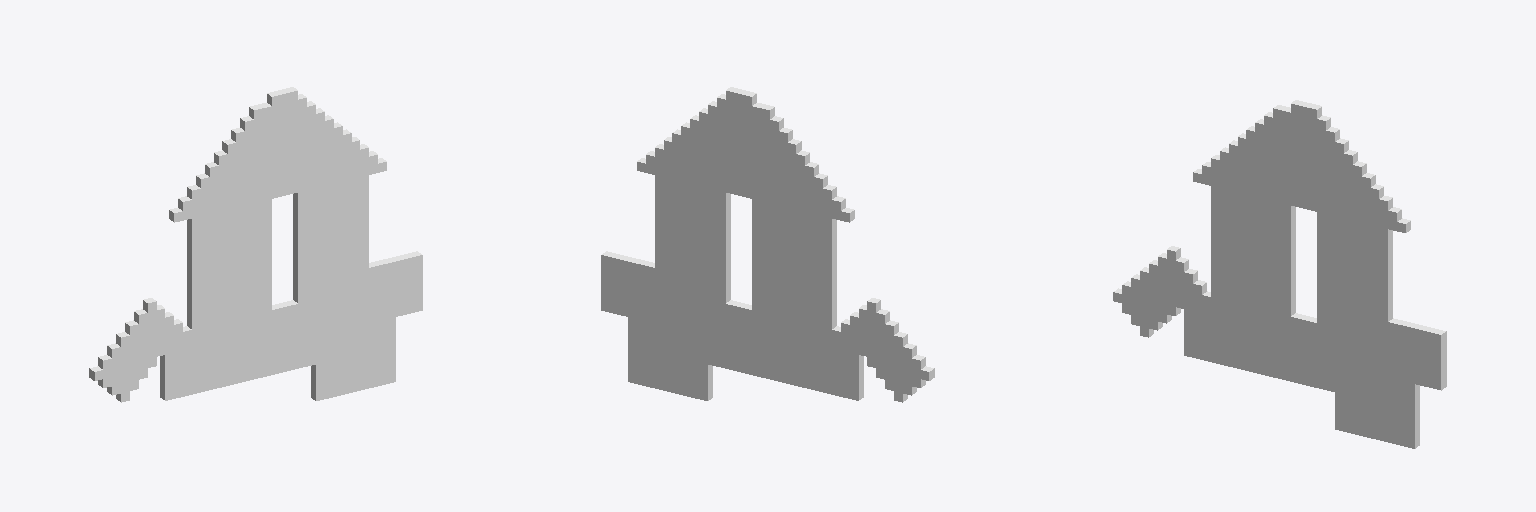
File: Blocks.obj
3 views of the same model, side by side, from view 1: azimuth 30°, elevation 25°; view 2: azimuth 150°, elevation 25°; view 3: azimuth 330°, elevation 25° (orthographic).
Parts seen in each view (by area): view 1: object 1; view 2: object 1; view 3: object 1.
Boxes of the visible parts, x1,y1,x2,y2 form: object 1: [89, 87, 422, 402]; object 1: [601, 87, 934, 402]; object 1: [1113, 100, 1446, 448].
Bounding box in the file's own units: 3.7 × 3.4 × 0.1.